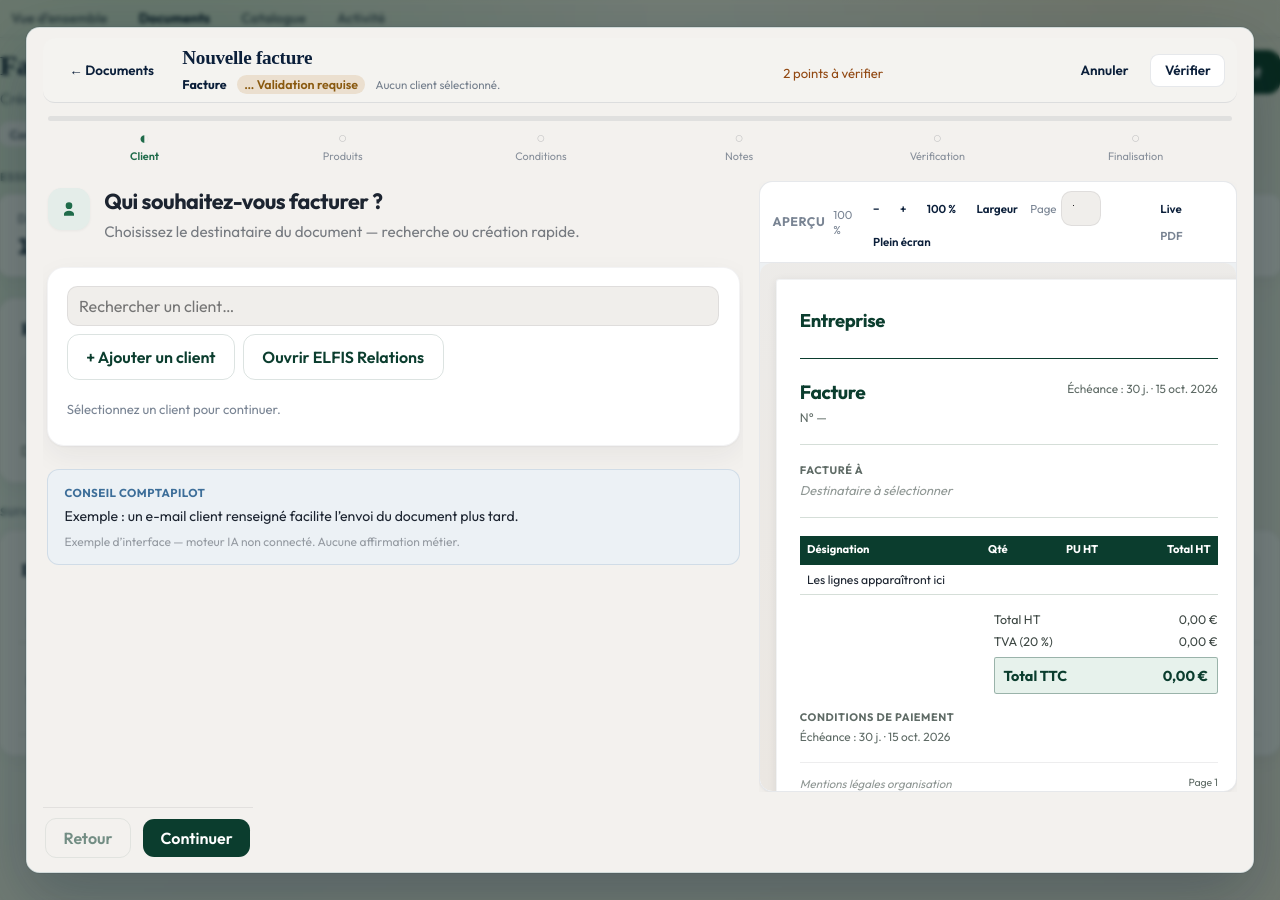
CL11–CL20 Composer integration › CL11 — bouton Parcourir le catalogue
Click the button "+ Ajouter un client" at (151, 357), box [67,334,235,380]
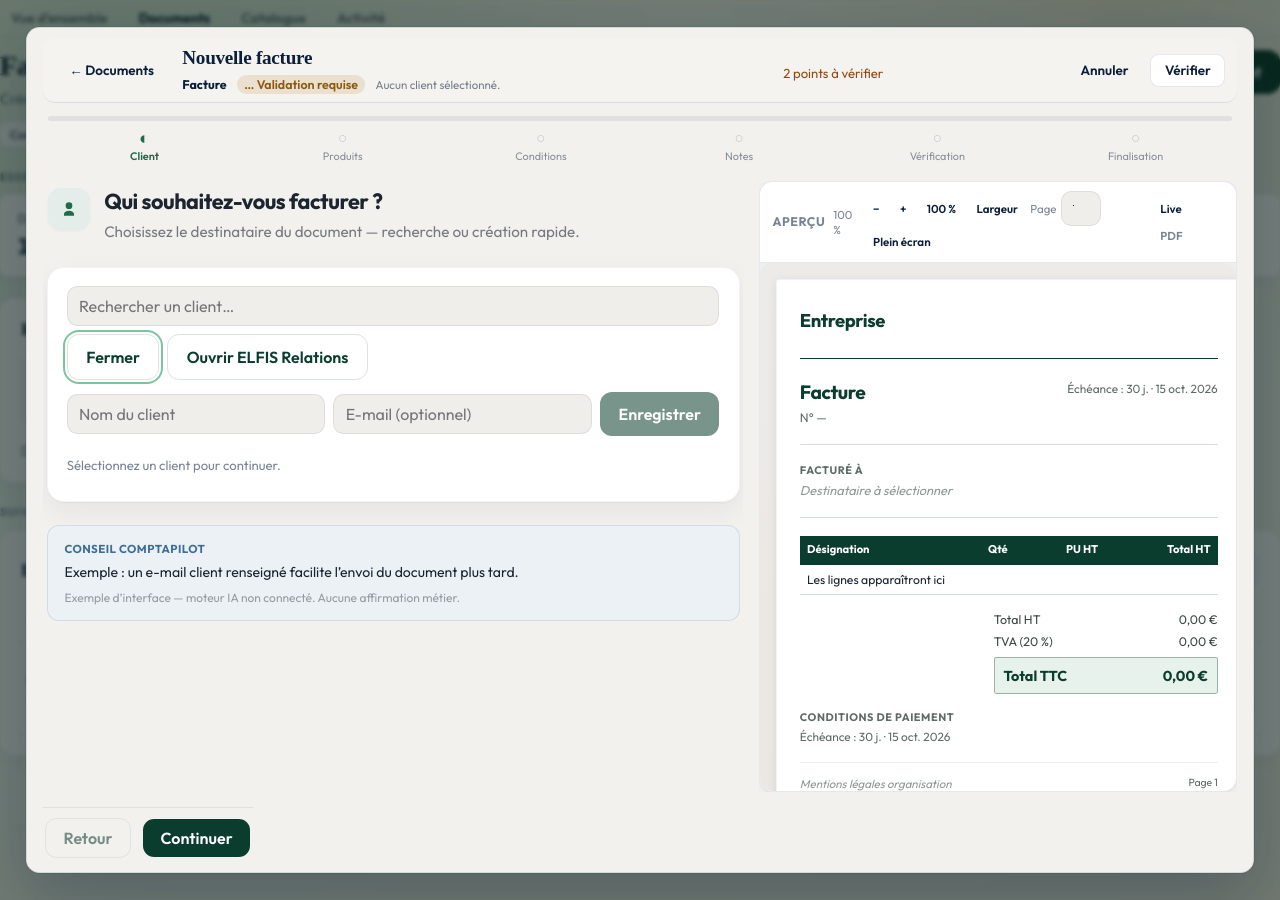
Type "Dupont SAS" into the field named "Nom du nouveau client" at (196, 414), box [67,394,326,434]
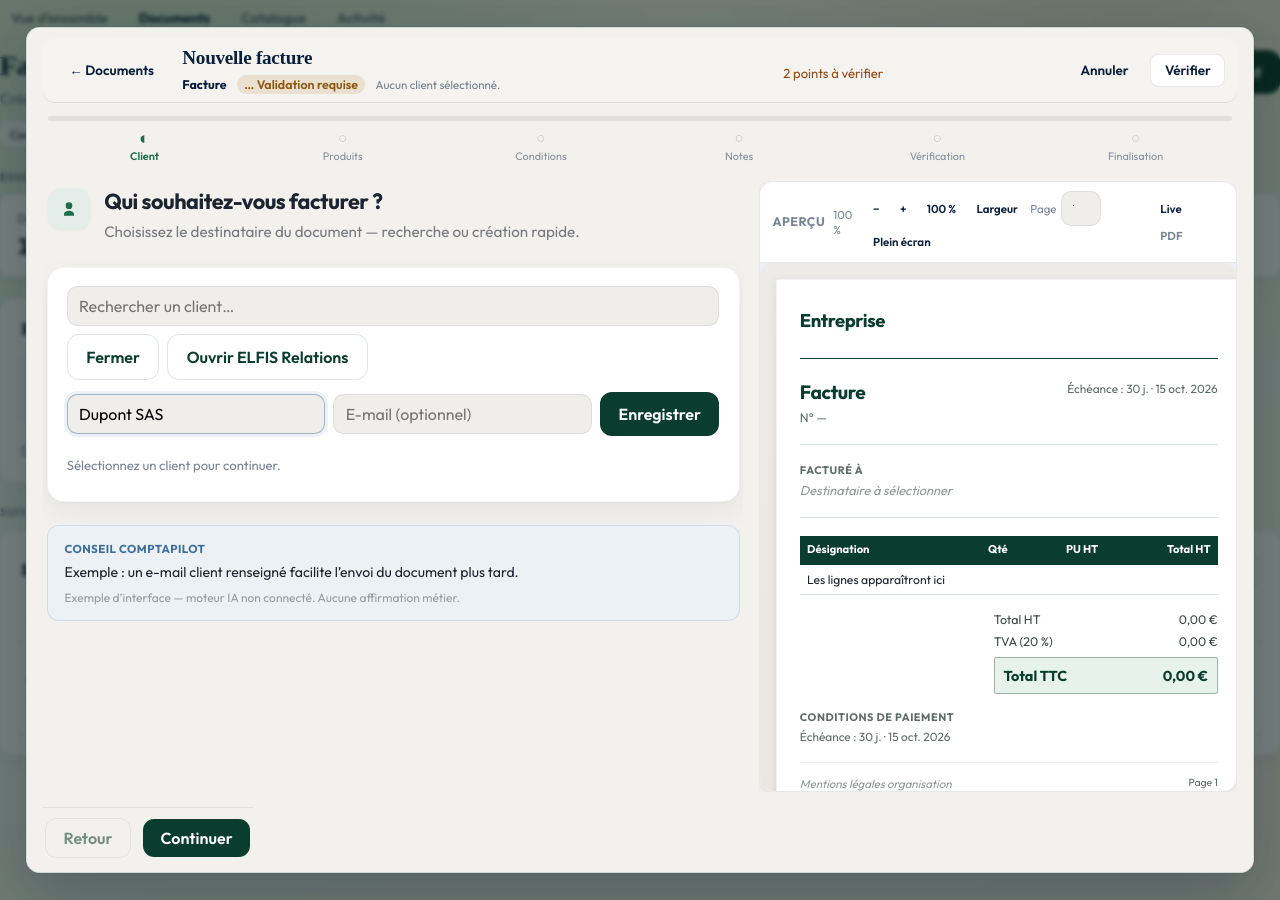
Click the button "Enregistrer" at (660, 414), box [600,392,719,436]
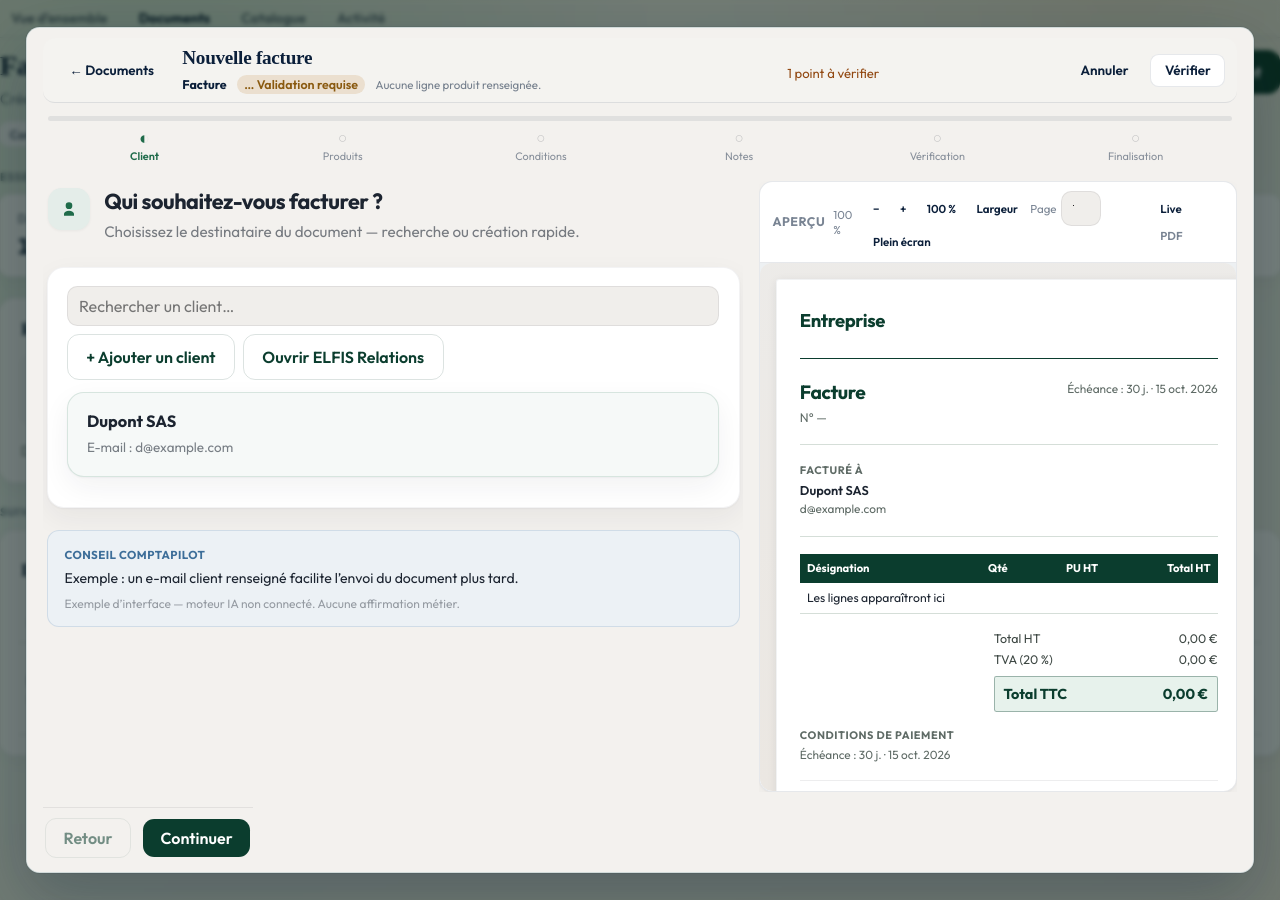
Click the button "Continuer" at (197, 838), box [143,819,250,857]
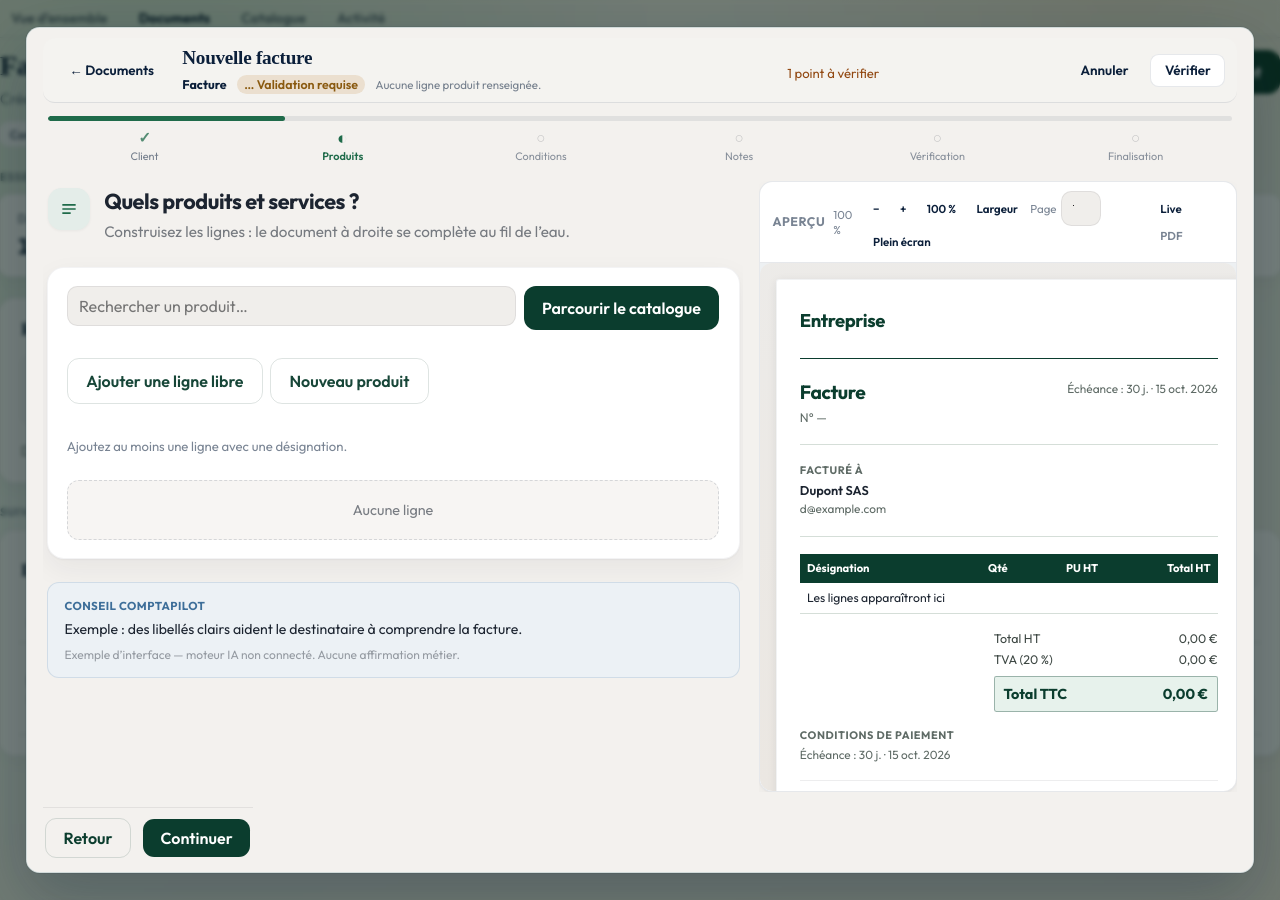
Result: the heading "Quels produits et services ?" is shown at [104,187,359,215]
Result: the button "Parcourir le catalogue" is shown at [524,286,719,330]
